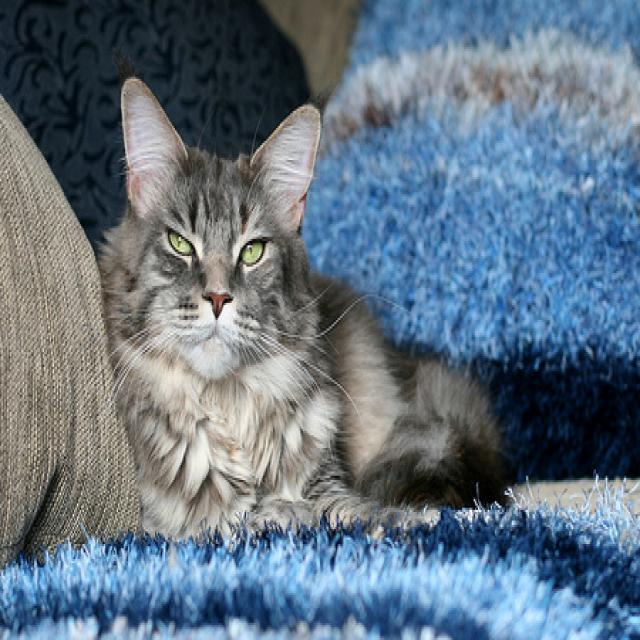Maine Coon: (94, 55, 514, 539)
